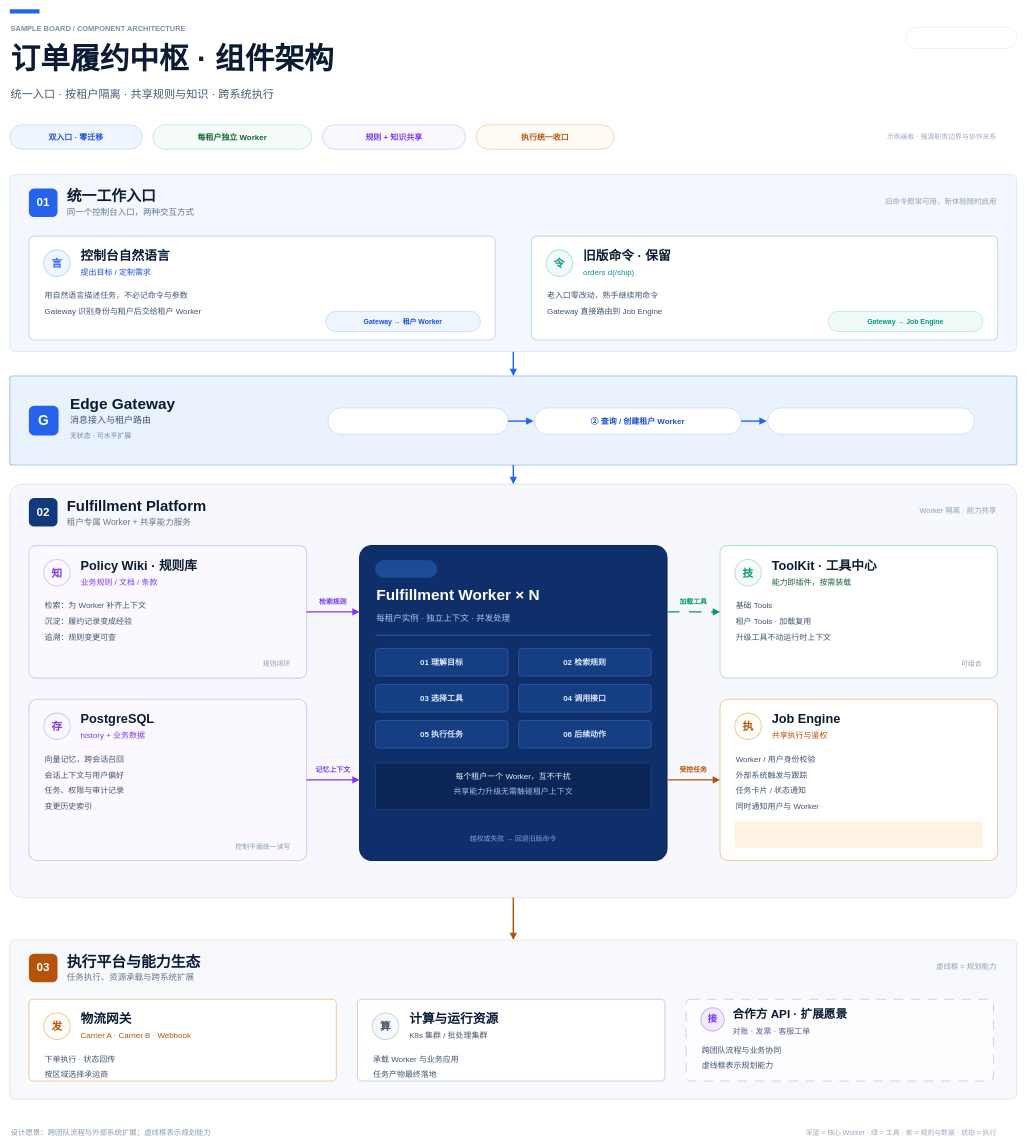
The diagram is 1026 pixels wide and 1148 high, and some of its shapes have lost their labels. The shapes that lost their labels are listed below. From the top down, each one's centre as x and y in pixels, then its label:
the point at 961,37: 示例 · 虚构系统
the point at 417,420: ① 识别用户与租户
the point at 871,420: ③ 分发任务 · 回传状态
the point at 406,569: CORE
the point at 859,834: 唯一执行收口：所有请求在此鉴权
